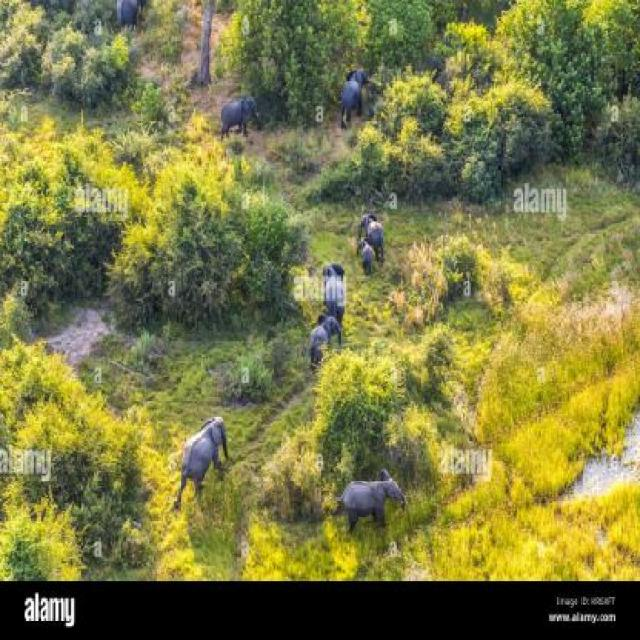elephant: (172, 397, 239, 501), (330, 463, 421, 531), (316, 244, 358, 319), (219, 83, 270, 143), (301, 299, 345, 361), (353, 238, 398, 287), (336, 59, 370, 121), (354, 206, 398, 248), (114, 0, 146, 45)
